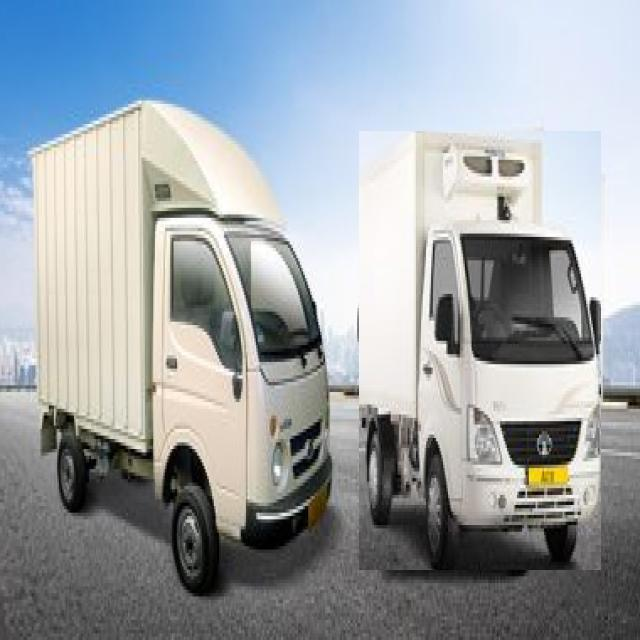truck: (36, 102, 329, 593), (359, 132, 601, 570)
